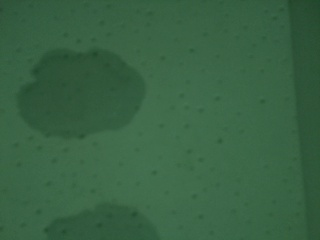Water_detected: (29, 55, 130, 131), (66, 206, 143, 240)
